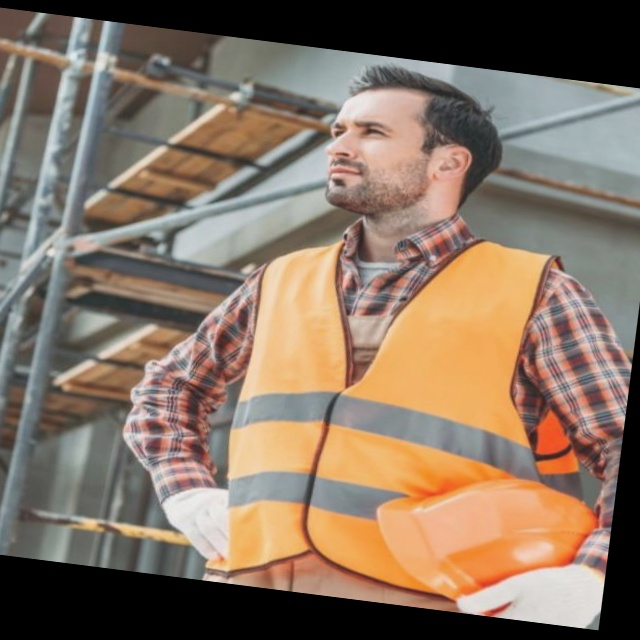Con_Chaleco: (216, 213, 566, 616)
Sin_Casco_Mascarrilla: (320, 58, 512, 229)
